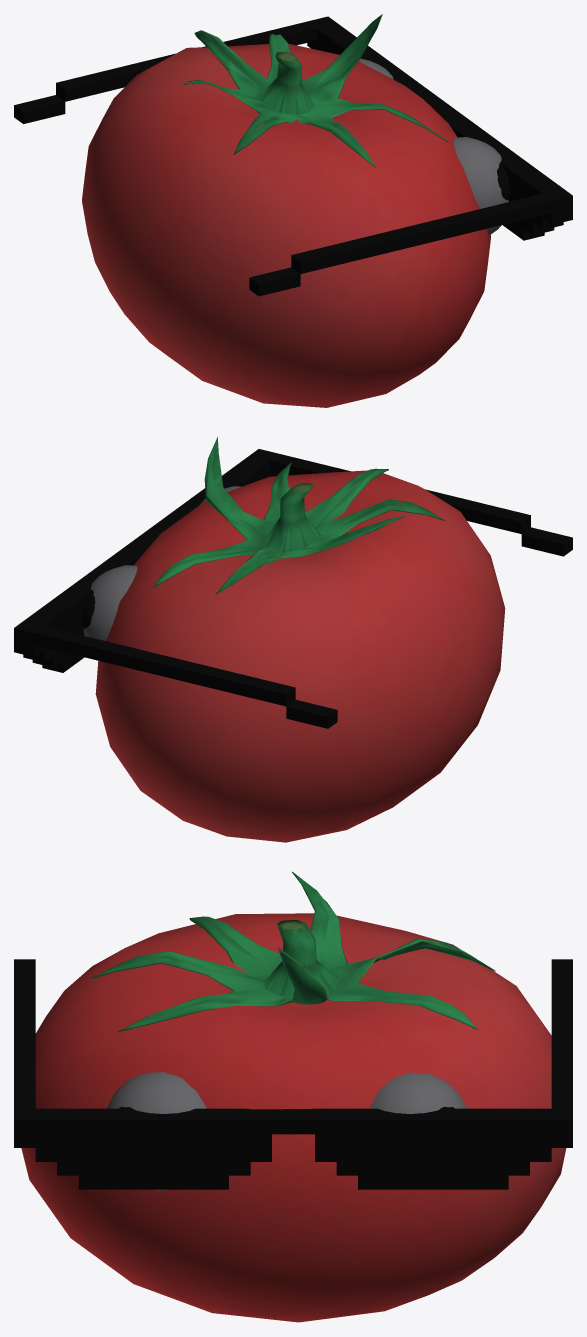
Rendered from Tomato_Goon_Shiny.obj.
3 renders of one model, top to bottom at view 1: azimuth 30°, elevation 25°; view 2: azimuth 150°, elevation 25°; view 3: azimuth 270°, elevation 25°, orthographic. The views are drawn at different scales.
Visible parts, largest first — view 1: Tomato1, Handle1, Part2; view 2: Tomato1, Handle1, Part1; view 3: Tomato1, Handle1, Part2, Part1.
Part boxes in pixels (bbox=[...]): Tomato1: bbox=[82, 14, 490, 407]; Handle1: bbox=[14, 16, 572, 296]; Part2: bbox=[454, 137, 508, 235]; Tomato1: bbox=[95, 437, 505, 842]; Handle1: bbox=[14, 449, 572, 728]; Part1: bbox=[83, 565, 137, 640]; Tomato1: bbox=[21, 871, 566, 1322]; Handle1: bbox=[14, 959, 572, 1189]; Part2: bbox=[107, 1072, 206, 1190]; Part1: bbox=[370, 1072, 466, 1113].
Bounding box in the file's own units: 7.02 × 7.19 × 9.07.
